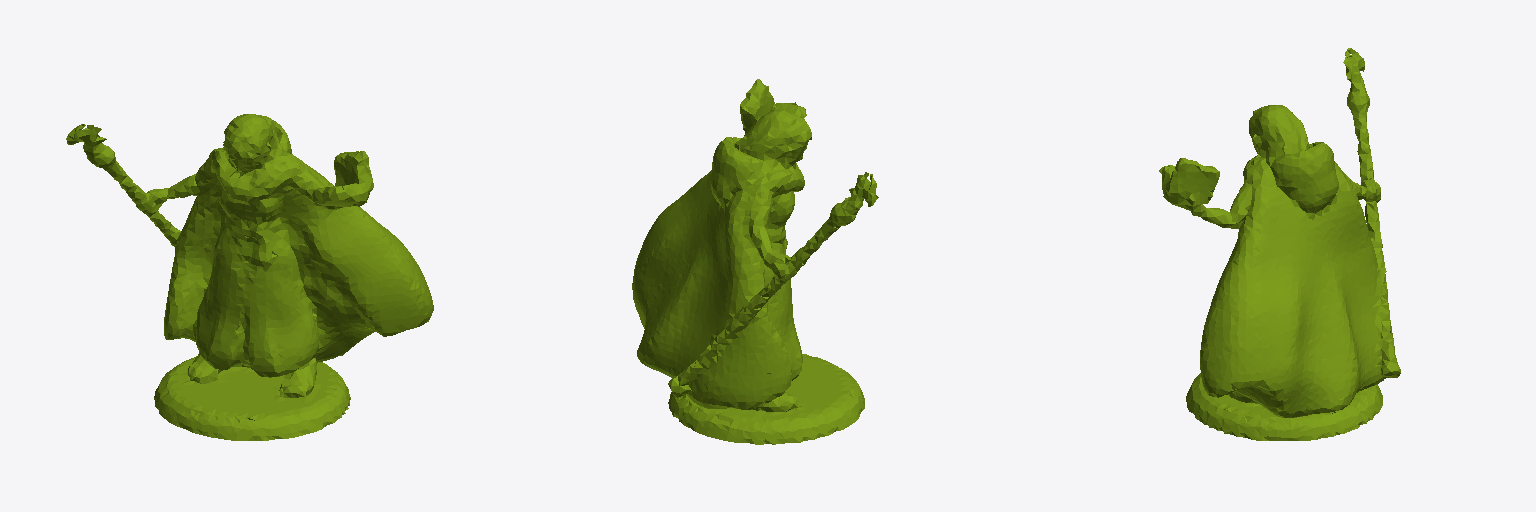
The model's file is model_decimated.obj.
3 renders of one model, left to right at view 1: azimuth 30°, elevation 25°; view 2: azimuth 150°, elevation 25°; view 3: azimuth 270°, elevation 25°, orthographic.
Size of the model in its own units: 33.65 by 31.07 by 23.57.